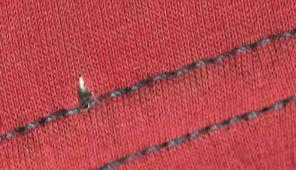hole: (73, 72, 97, 94)
